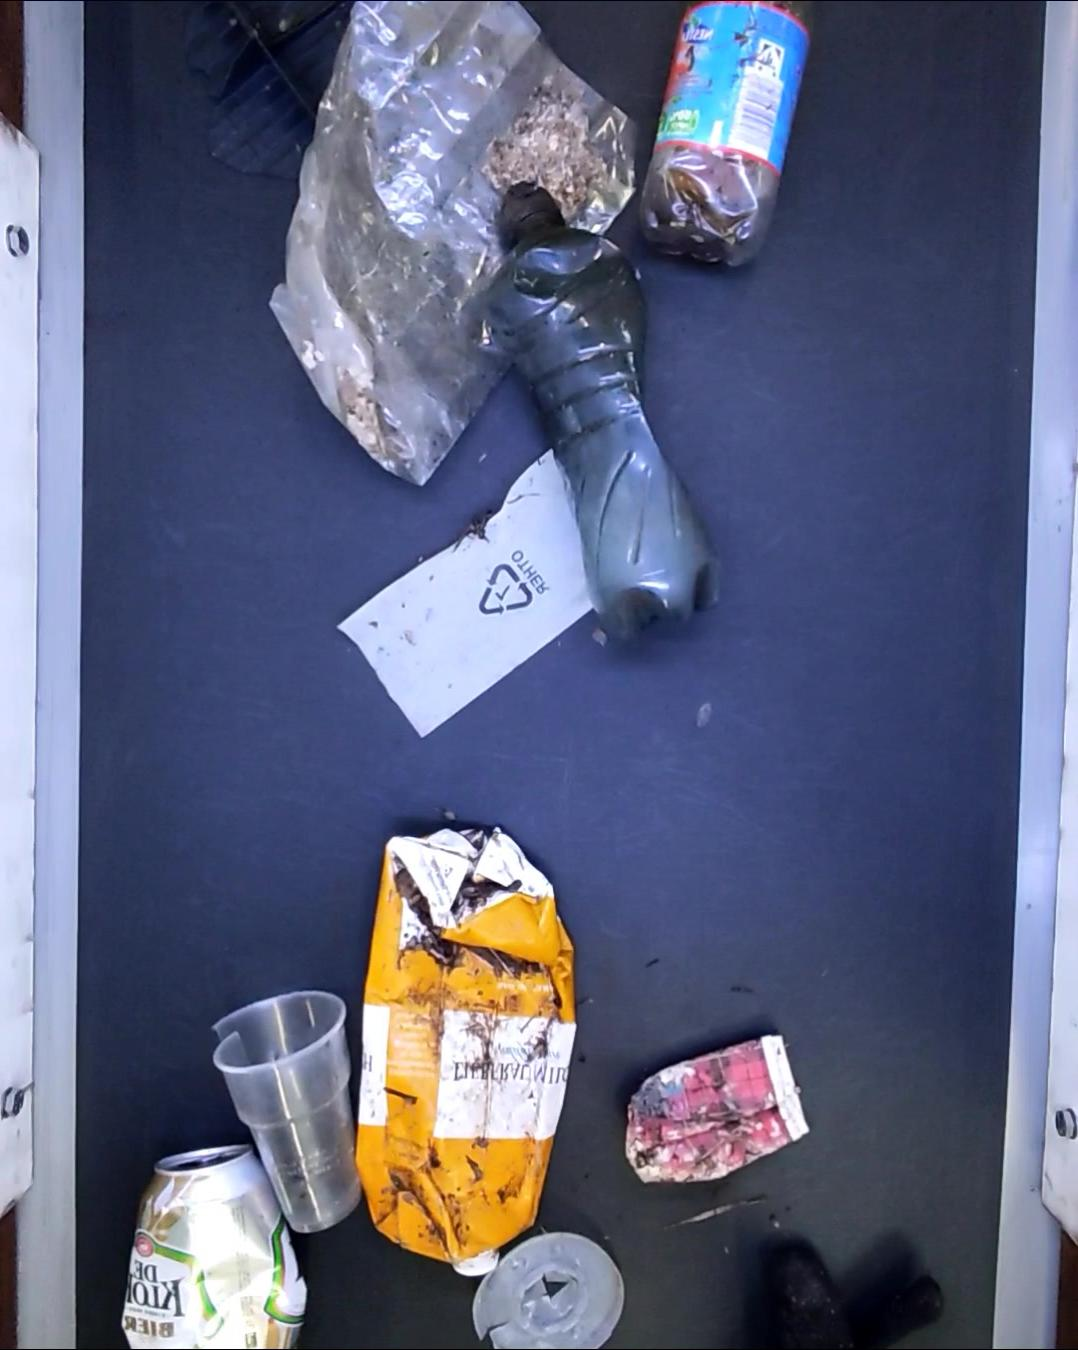Drankblikjes: (120, 1139, 306, 1350)
Drankflessen - 1-2 liter: (488, 182, 717, 654), (634, 0, 814, 272)
Plastic folies of stukken daarvan 2.5- 50 cm: (263, 0, 641, 485), (334, 432, 638, 735)
